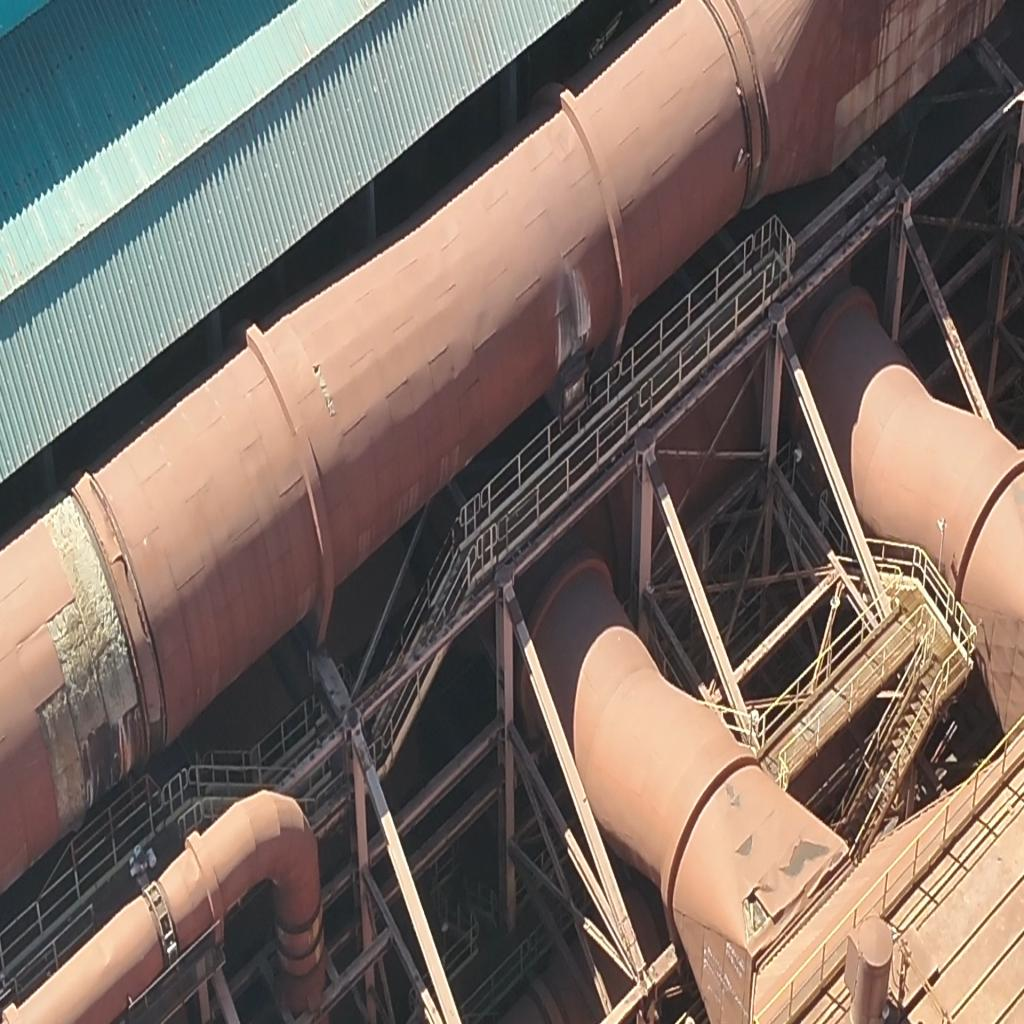Failures: (36, 490, 144, 832), (554, 262, 594, 366), (781, 840, 830, 879), (743, 883, 772, 937), (312, 360, 334, 416), (736, 833, 754, 857), (727, 784, 739, 809)
